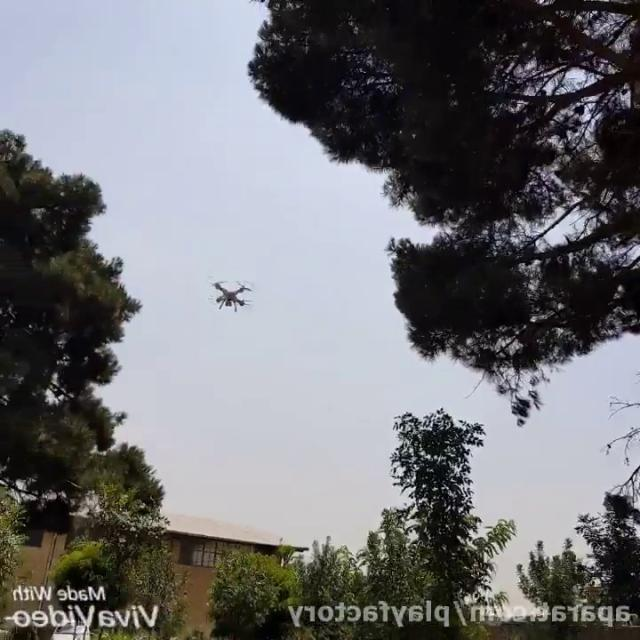drone: (201, 270, 259, 315)
